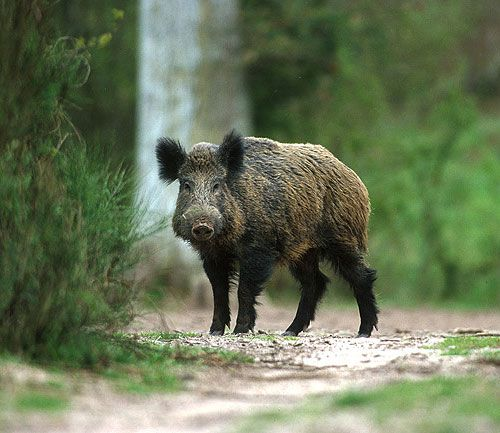boar: (151, 124, 385, 346)
